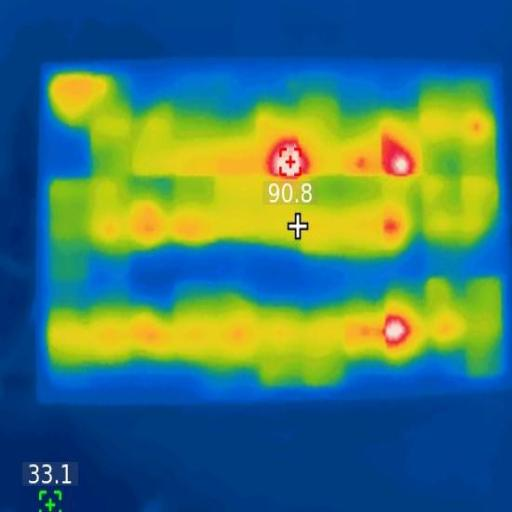hotspot: (270, 136, 307, 180), (380, 132, 413, 180), (383, 309, 410, 347), (382, 214, 400, 234)
